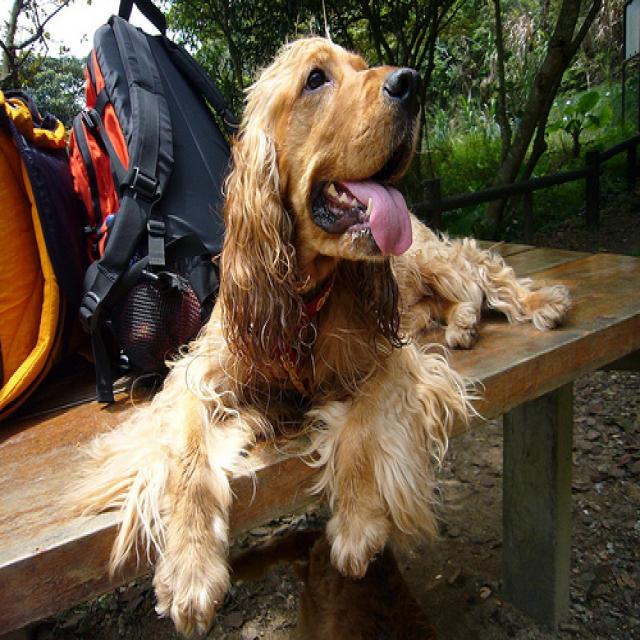dog: (221, 36, 420, 338)
